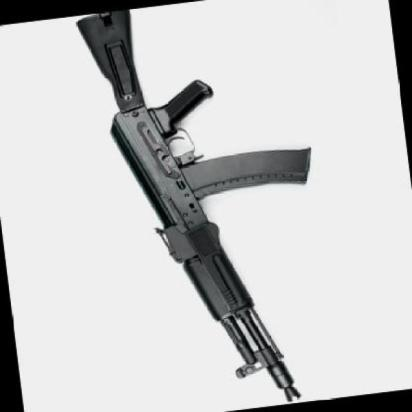Gun: (63, 0, 357, 412)
